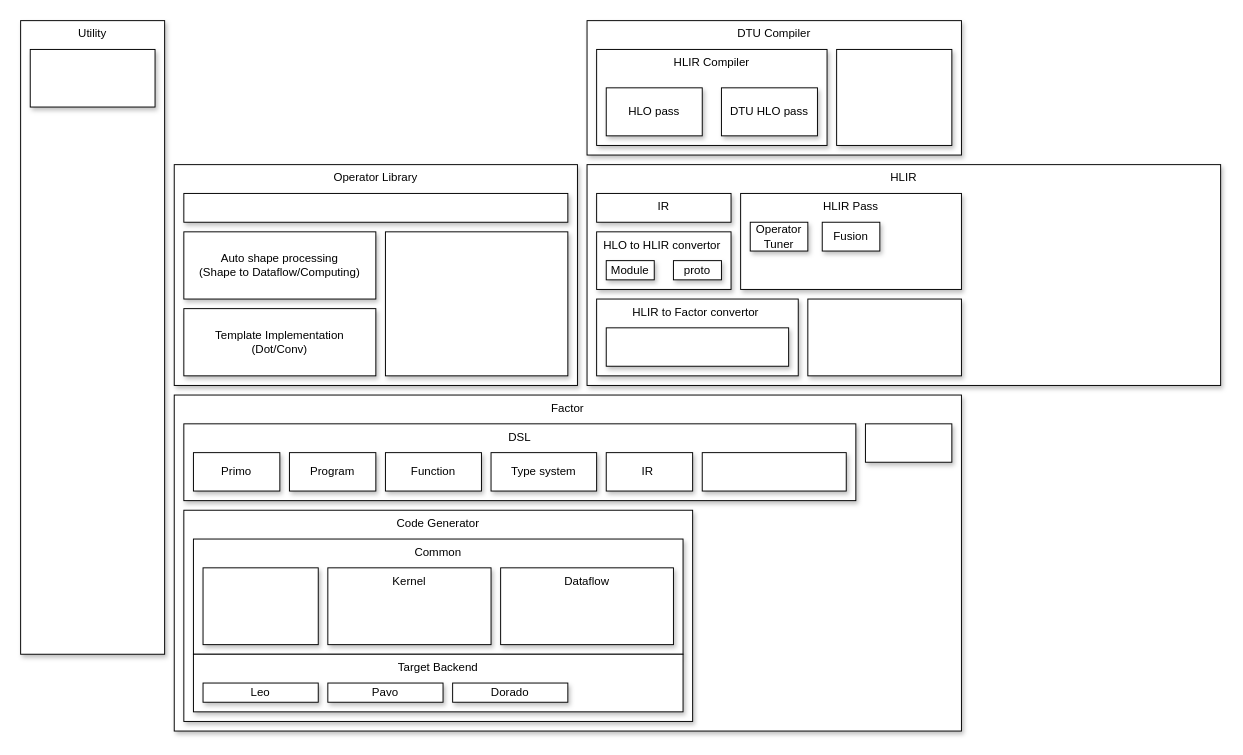
The diagram is 1243 pixels wide and 755 high, and some of its shapes have lost their labels. The centre of each missing label's shape, as x and y in pixels:
CPU operator implementation: point 885,338
Factor Target: point 909,444
GraphIR Compiler: point 895,98
Op Registry: point 376,209
Operator implementation: point 477,305
Operator Interface: point 697,348
Pass: point 261,607
Syntactic Sugar Parser: point 774,473
Target: point 93,79
